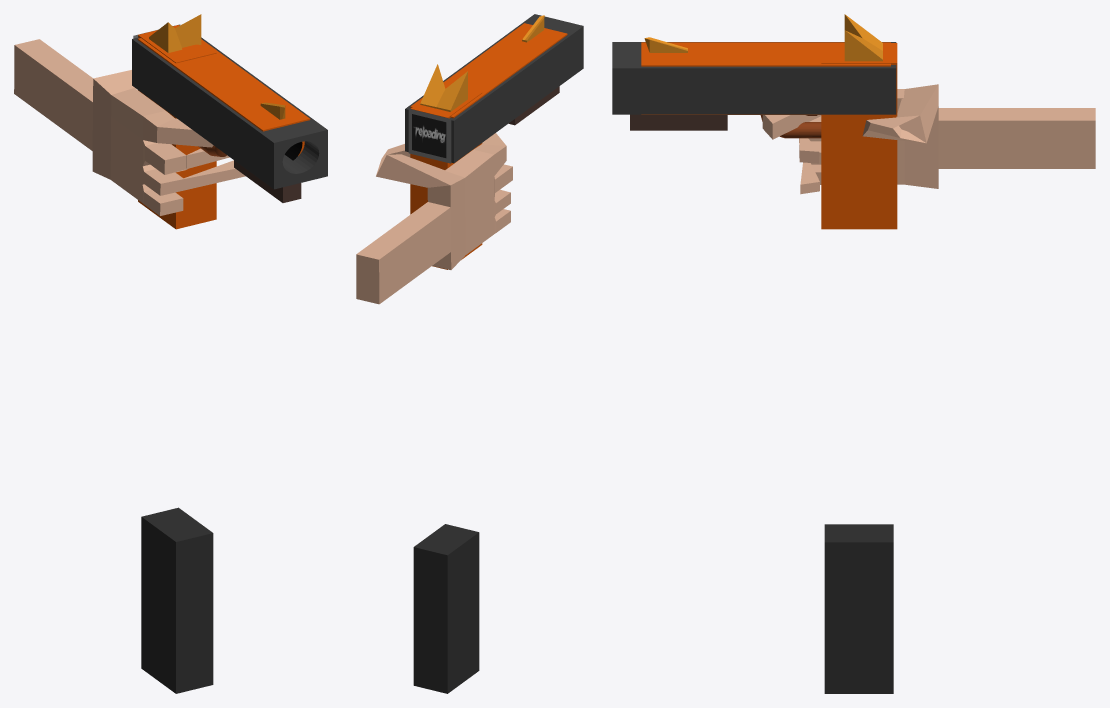
Rendered from gun pistol realoading frame 3.fbx.
The picture shows the model from 3 angles, left to right: view 1: azimuth 30°, elevation 25°; view 2: azimuth 150°, elevation 25°; view 3: azimuth 270°, elevation 25°; orthographic projection. The views are drawn at different scales.
Parts seen in each view (by area): view 1: Cube, Cube.004, Cube.005, Cube.001, Cube.002, Cube.006, Cube.003; view 2: Cube, Cube.004, Cube.005, Cube.001, Cube.006, Cube.002, Plane.001, Plane; view 3: Cube, Cube.005, Cube.004, Cube.002, Cube.001, Cube.003, Cube.006.
Part boxes in pixels (x1=…): Cube: x1=14, y1=39, x2=245, y2=215; Cube.004: x1=141, y1=507, x2=213, y2=693; Cube.005: x1=132, y1=37, x2=327, y2=189; Cube.001: x1=137, y1=38, x2=310, y2=155; Cube.002: x1=138, y1=25, x2=216, y2=229; Cube.006: x1=149, y1=14, x2=201, y2=52; Cube.003: x1=234, y1=160, x2=301, y2=202; Cube: x1=356, y1=133, x2=512, y2=304; Cube.004: x1=413, y1=524, x2=479, y2=693; Cube.005: x1=405, y1=14, x2=583, y2=163; Cube.001: x1=410, y1=23, x2=567, y2=118; Cube.006: x1=420, y1=64, x2=467, y2=111; Cube.002: x1=410, y1=83, x2=482, y2=269; Plane.001: x1=412, y1=114, x2=446, y2=157; Plane: x1=408, y1=108, x2=451, y2=163; Cube: x1=762, y1=84, x2=1095, y2=194; Cube.005: x1=612, y1=42, x2=896, y2=114; Cube.004: x1=824, y1=524, x2=893, y2=693; Cube.002: x1=821, y1=43, x2=897, y2=229; Cube.001: x1=641, y1=42, x2=890, y2=114; Cube.003: x1=630, y1=114, x2=727, y2=130; Cube.006: x1=844, y1=14, x2=882, y2=61.
Size of the model in its own units: 159 by 1057 by 698.
10 materials, 1 textured.
